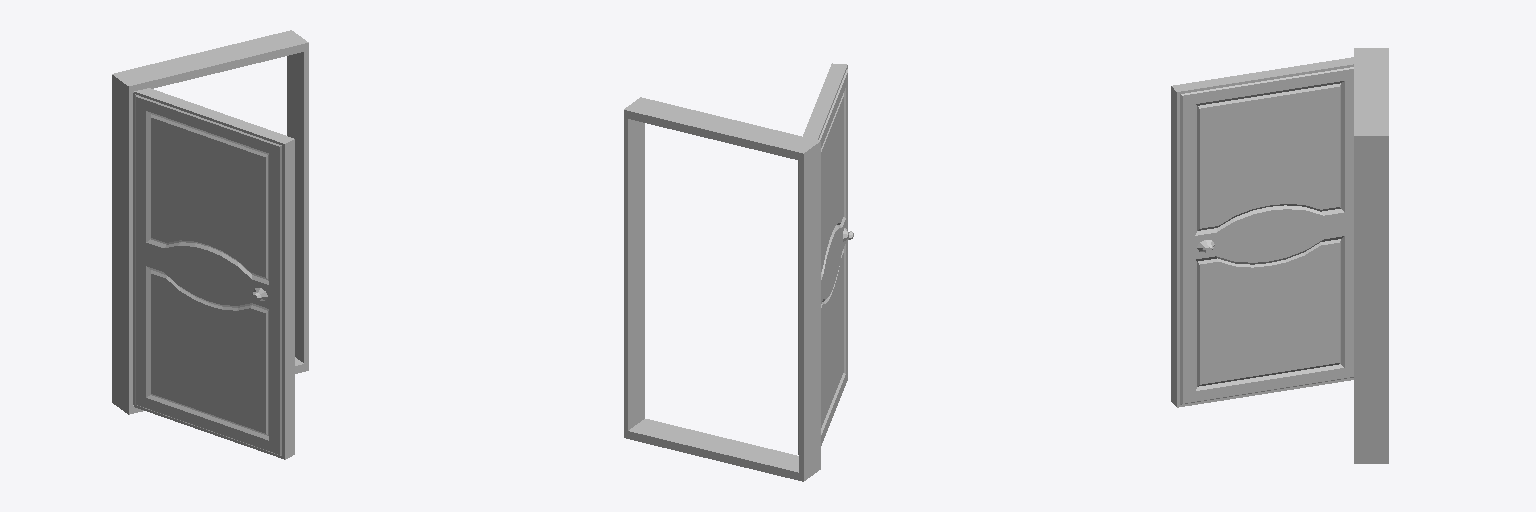
The model's file is drzwiok_000014.obj.
The picture shows the model from 3 angles: view 1: azimuth 30°, elevation 25°; view 2: azimuth 150°, elevation 25°; view 3: azimuth 270°, elevation 25°; orthographic projection.
Visible parts, largest first — view 1: Door_4.001_Cube.001, Kostka; view 2: Kostka, Door_4.001_Cube.001; view 3: Door_4.001_Cube.001, Kostka.
Boxes of the visible parts, x1,y1,x2,y2 form: Door_4.001_Cube.001: [133, 88, 294, 459]; Kostka: [112, 30, 308, 414]; Kostka: [624, 97, 820, 481]; Door_4.001_Cube.001: [798, 63, 853, 454]; Door_4.001_Cube.001: [1171, 57, 1353, 407]; Kostka: [1354, 48, 1388, 463].
Size of the model in its own units: 0.7416 by 1.29 by 0.7751.